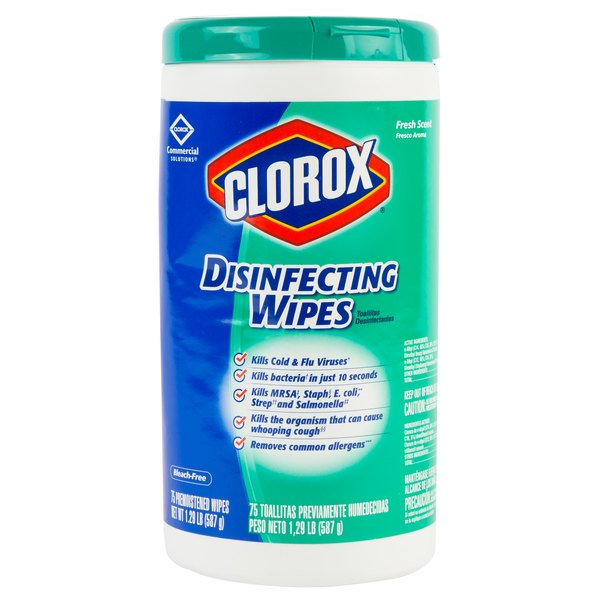Wipes: (155, 11, 445, 590)
